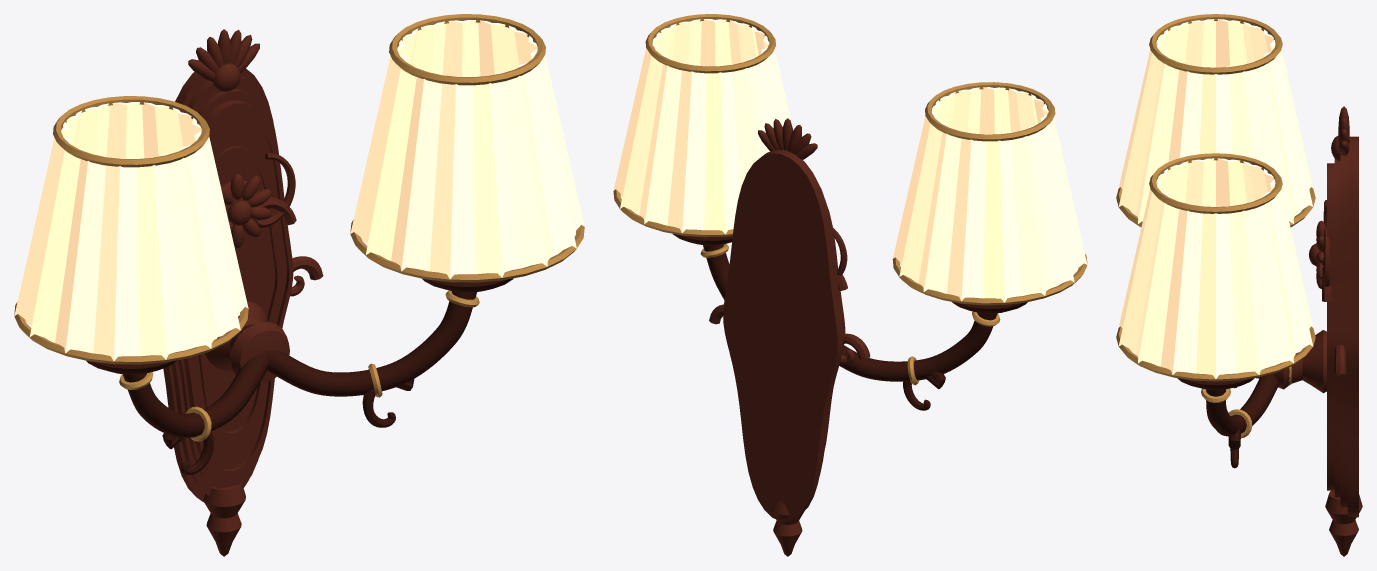
The model's file is Sconce.glb.
3 renders of one model, left to right at view 1: azimuth 30°, elevation 25°; view 2: azimuth 150°, elevation 25°; view 3: azimuth 270°, elevation 25°, orthographic. The views are drawn at different scales.
Visible parts, largest first — view 1: Sconce_Shades, Sconce_Body, Sconce_Arms, Sconce_Trim; view 2: Sconce_Shades, Sconce_Body, Sconce_Trim, Sconce_Arms; view 3: Sconce_Shades, Sconce_Body, Sconce_Trim, Sconce_Arms.
Boxes of the visible parts, x1,y1,x2,y2 form: Sconce_Shades: (14, 20, 584, 360); Sconce_Body: (163, 29, 323, 556); Sconce_Arms: (86, 278, 513, 474); Sconce_Trim: (14, 14, 584, 441); Sconce_Shades: (613, 19, 1087, 302); Sconce_Body: (709, 118, 870, 556); Sconce_Trim: (613, 14, 1087, 385); Sconce_Arms: (673, 234, 1027, 410); Sconce_Shades: (1118, 19, 1313, 378); Sconce_Body: (1274, 106, 1362, 556); Sconce_Trim: (1116, 14, 1315, 438); Sconce_Arms: (1177, 373, 1278, 468).
Bounding box in the file's own units: 0.562 × 0.5255 × 0.262.
